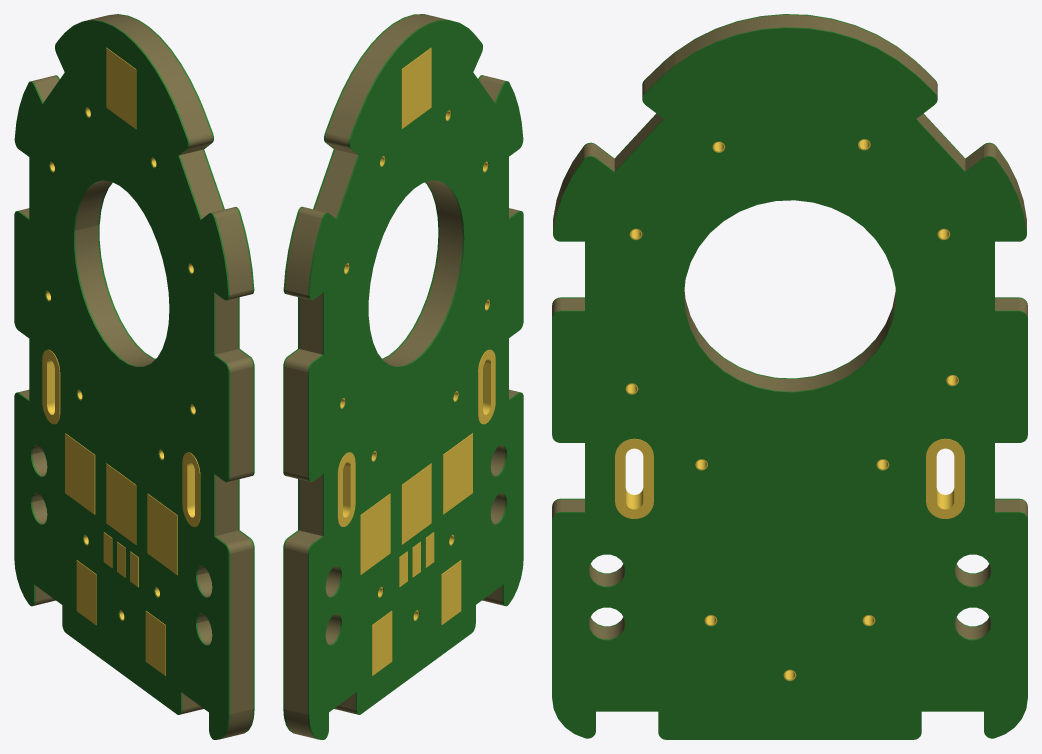
The model's file is finger_pot_board.glb.
3 renders of one model, left to right at view 1: azimuth 30°, elevation 25°; view 2: azimuth 150°, elevation 25°; view 3: azimuth 270°, elevation 25°, orthographic. The views are drawn at different scales.
Parts seen in each view (by area): view 1: Body1007, Body1003, Body1034, Body1041, Body1024, Body1042, Body1014, Body1048, Body1004, Body1030, Body1037; view 2: Body1007, Body1003, Body1034, Body1014, Body1024, Body1041, Body1042, Body1004, Body1048, Body1037, Body1030; view 3: Body1034, Body1003, Body1016, Body1046, Body1007.
Boxes of the visible parts, bbox=[...] form: Body1007: bbox=[14, 20, 230, 739]; Body1003: bbox=[18, 14, 253, 738]; Body1034: bbox=[55, 14, 254, 733]; Body1041: bbox=[106, 47, 136, 128]; Body1024: bbox=[65, 433, 95, 514]; Body1042: bbox=[147, 493, 177, 574]; Body1014: bbox=[106, 463, 136, 544]; Body1048: bbox=[76, 560, 96, 625]; Body1004: bbox=[145, 611, 165, 675]; Body1030: bbox=[182, 452, 200, 526]; Body1037: bbox=[42, 349, 60, 424]; Body1007: bbox=[307, 20, 523, 739]; Body1003: bbox=[284, 14, 519, 738]; Body1034: bbox=[283, 14, 482, 733]; Body1014: bbox=[401, 463, 431, 544]; Body1024: bbox=[360, 493, 390, 574]; Body1041: bbox=[401, 47, 431, 128]; Body1042: bbox=[443, 433, 472, 514]; Body1004: bbox=[441, 560, 461, 625]; Body1048: bbox=[372, 611, 392, 675]; Body1037: bbox=[337, 452, 355, 526]; Body1030: bbox=[478, 349, 495, 424]; Body1034: bbox=[552, 27, 1027, 739]; Body1003: bbox=[552, 14, 1027, 639]; Body1016: bbox=[615, 438, 653, 518]; Body1046: bbox=[926, 438, 964, 518]; Body1007: bbox=[552, 14, 1027, 626].
Bounding box in the file's own units: 0.00094 × 0.0215 × 0.013.
